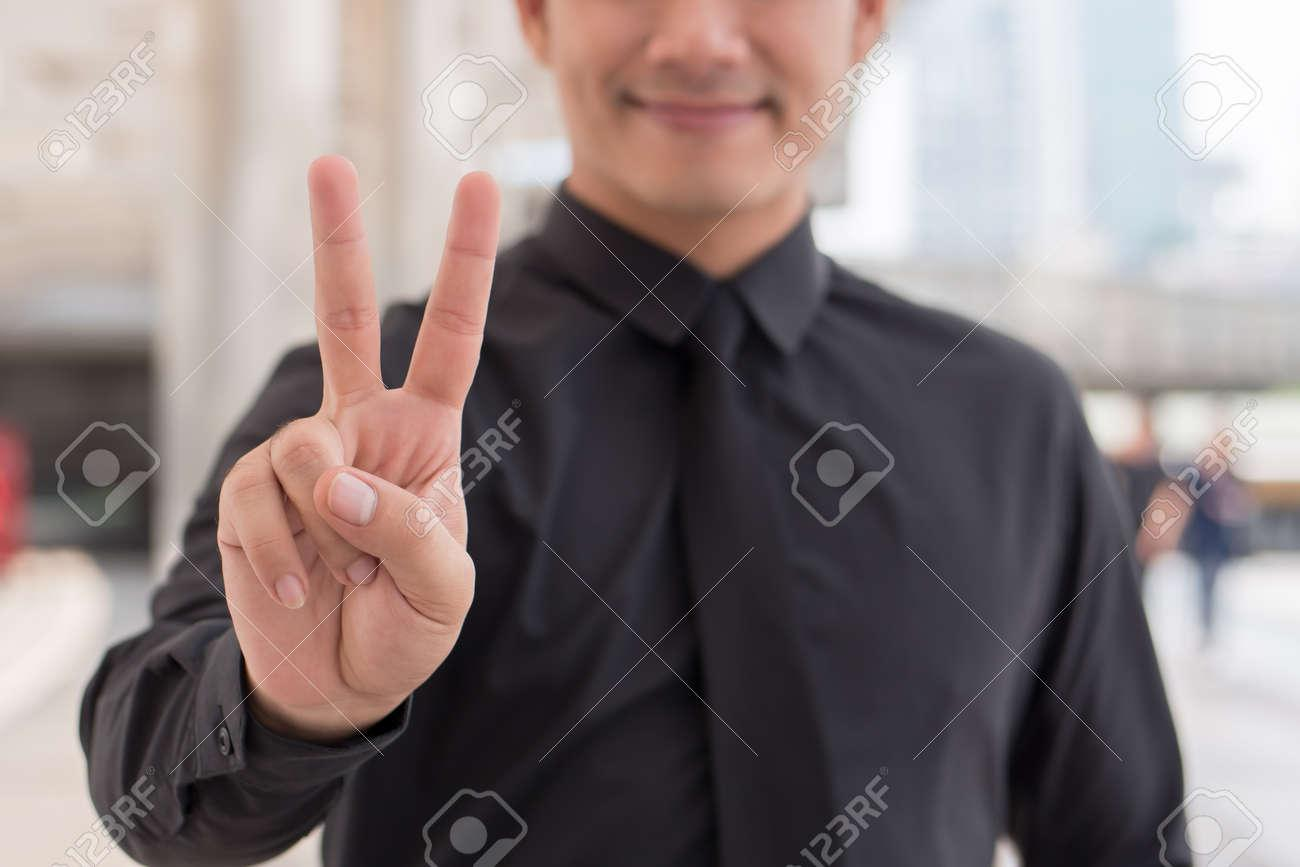peace_sign: (196, 124, 496, 742)
